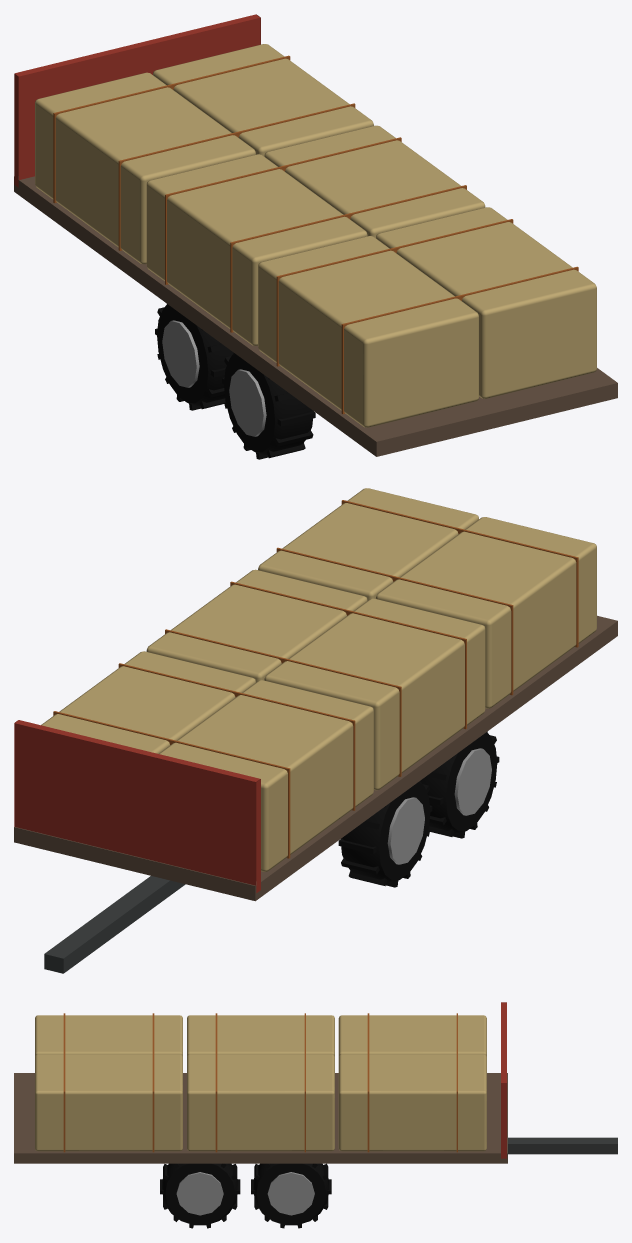
Rendered from vehicle.farm.trailer_bale.glb.
The picture shows the model from 3 angles, top to bottom: view 1: azimuth 30°, elevation 25°; view 2: azimuth 150°, elevation 25°; view 3: azimuth 270°, elevation 25°; orthographic projection. The views are drawn at different scales.
Visible parts, largest first — view 1: main__timber_ba6, main__timber_654, main__paint_932, main__rubber, main__paint_952, main__paint_999; view 2: main__timber_ba6, main__paint_932, main__timber_654, main__rubber, main__paint_952, main__paint_333, main__paint_999; view 3: main__timber_ba6, main__timber_654, main__rubber, main__paint_999, main__paint_952, main__paint_333, main__paint_932.
Part boxes in pixels (x1,y1,x2,y2): main__timber_ba6: (35, 44, 596, 427); main__timber_654: (14, 176, 617, 456); main__paint_932: (14, 14, 260, 187); main__rubber: (155, 304, 315, 459); main__paint_952: (53, 55, 578, 414); main__paint_999: (162, 320, 266, 436); main__timber_ba6: (41, 488, 596, 871); main__paint_932: (14, 720, 260, 892); main__timber_654: (14, 615, 617, 901); main__rubber: (338, 731, 499, 887); main__paint_952: (53, 500, 578, 858); main__paint_333: (44, 876, 185, 973); main__paint_999: (387, 748, 491, 864); main__timber_ba6: (35, 1015, 486, 1151); main__timber_654: (14, 1073, 507, 1163); main__rubber: (160, 1163, 331, 1228); main__paint_999: (176, 1172, 314, 1215); main__paint_952: (63, 1013, 457, 1152); main__paint_333: (508, 1137, 617, 1154); main__paint_932: (501, 1002, 506, 1158).
Size of the model in its own units: 2.51 by 2.17 by 7.95.
